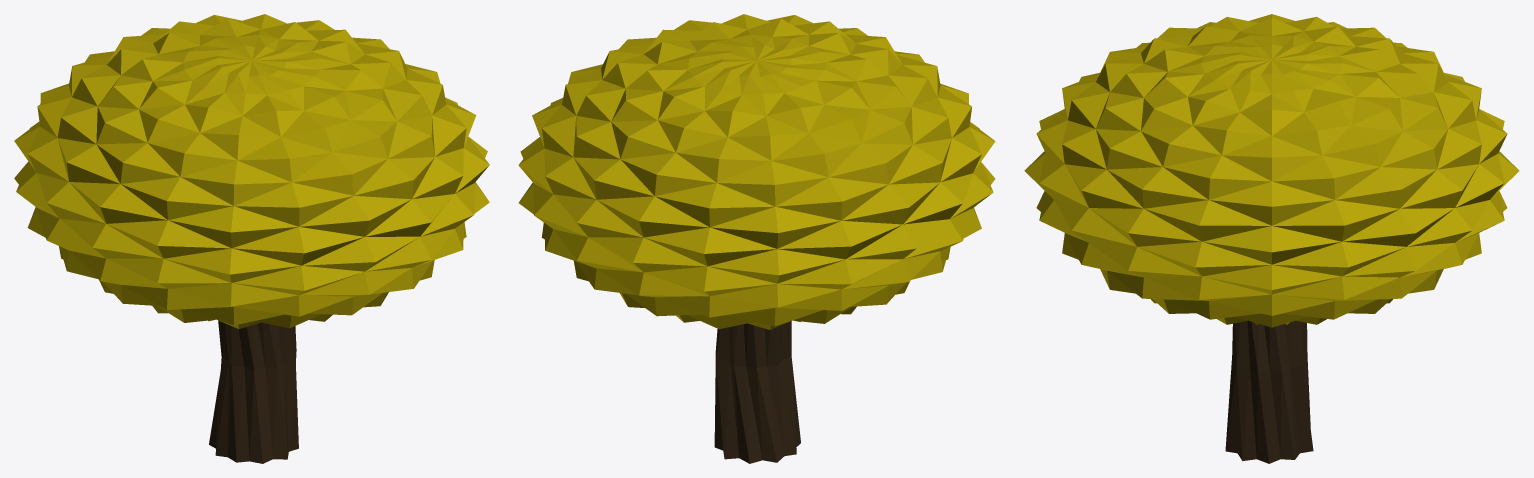
File: ShortFatTree_Yellow.fbx
3 views of the same model, side by side, from view 1: azimuth 30°, elevation 25°; view 2: azimuth 150°, elevation 25°; view 3: azimuth 270°, elevation 25° (orthographic).
Parts seen in each view (by area): view 1: pSphere3, pCylinder3; view 2: pSphere3, pCylinder3; view 3: pSphere3, pCylinder3.
Part boxes in pixels (left/top/right/bottom): pSphere3: left=14, top=14, right=489, bottom=328; pCylinder3: left=209, top=320, right=298, bottom=463; pSphere3: left=518, top=14, right=995, bottom=329; pCylinder3: left=714, top=321, right=800, bottom=463; pSphere3: left=1024, top=14, right=1519, bottom=327; pCylinder3: left=1225, top=320, right=1313, bottom=463.
Size of the model in its own units: 17.7 by 15.89 by 18.46.
